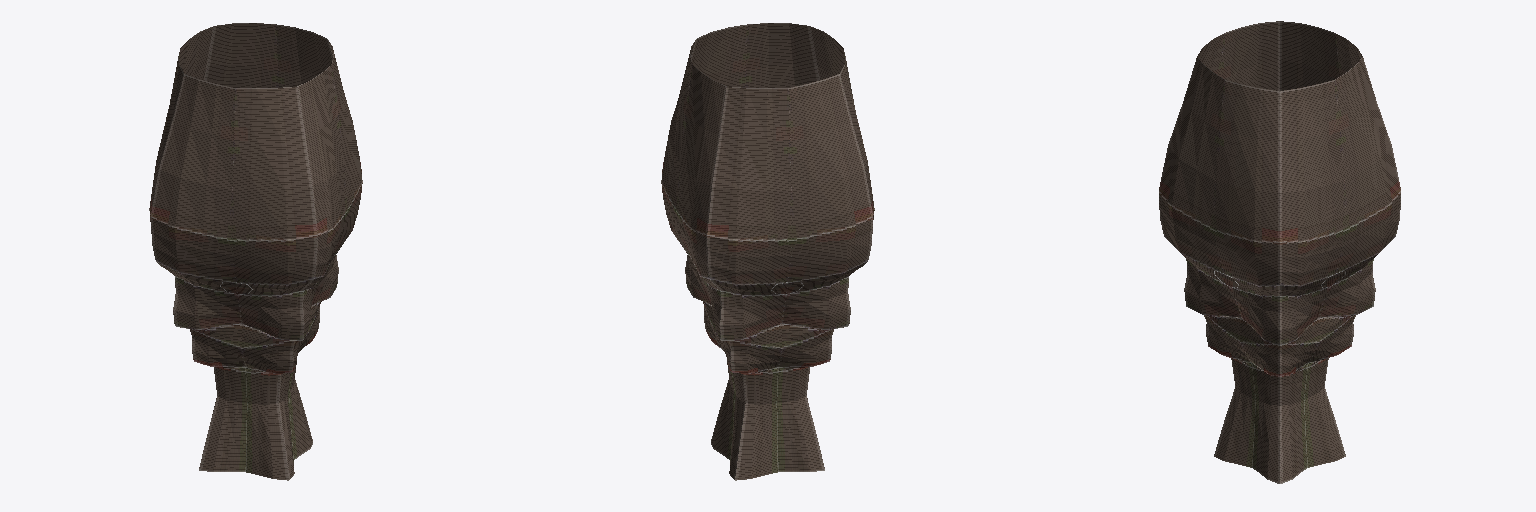
3 renders of one model, left to right at view 1: azimuth 30°, elevation 25°; view 2: azimuth 150°, elevation 25°; view 3: azimuth 270°, elevation 25°, orthographic.
Parts seen in each view (by area): view 1: PillarVicarious.lod2; view 2: PillarVicarious.lod2; view 3: PillarVicarious.lod2.
Boxes of the visible parts, box(x1,y1,x2,y2) form: PillarVicarious.lod2: box(149, 23, 362, 480); PillarVicarious.lod2: box(661, 23, 874, 480); PillarVicarious.lod2: box(1159, 21, 1400, 483).
Size of the model in its own units: 4.4 by 8.01 by 4.4.
1 materials, 1 textured.